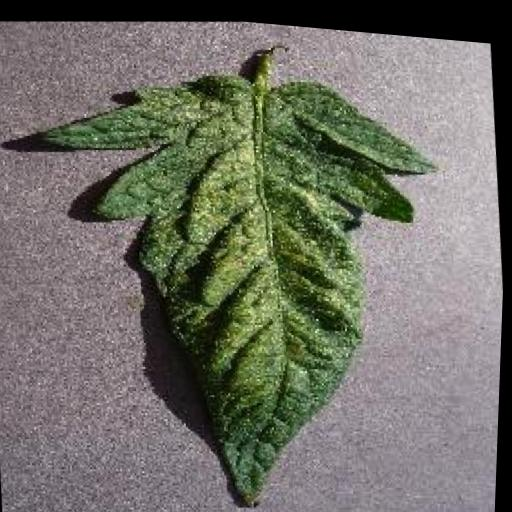Spider Mites: (22, 40, 473, 512)
